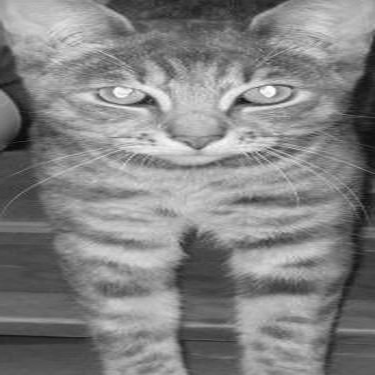cat: (3, 8, 363, 370)
